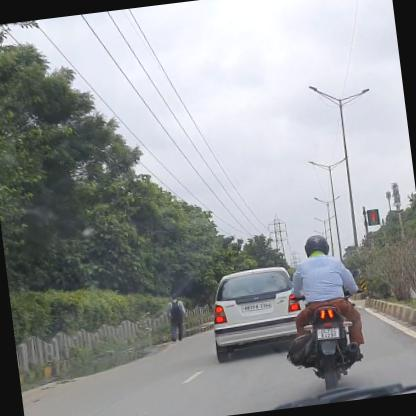car: (206, 262, 314, 364)
motorcycle: (276, 228, 374, 394)
